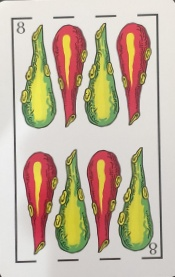8b: (10, 13, 159, 36)
